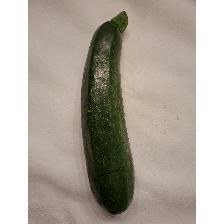Zucchini: (75, 9, 139, 217)
